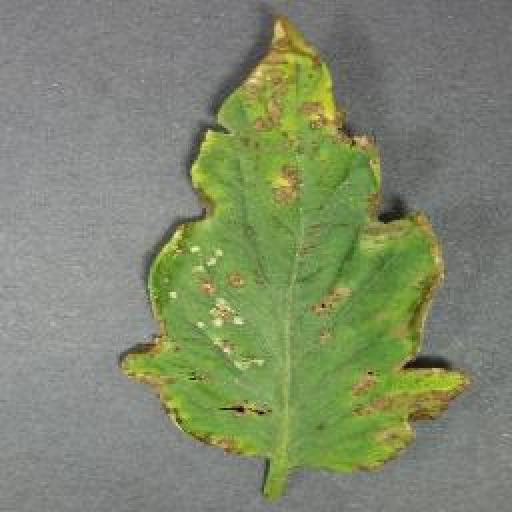Bacterial Spot: (106, 5, 474, 476)
